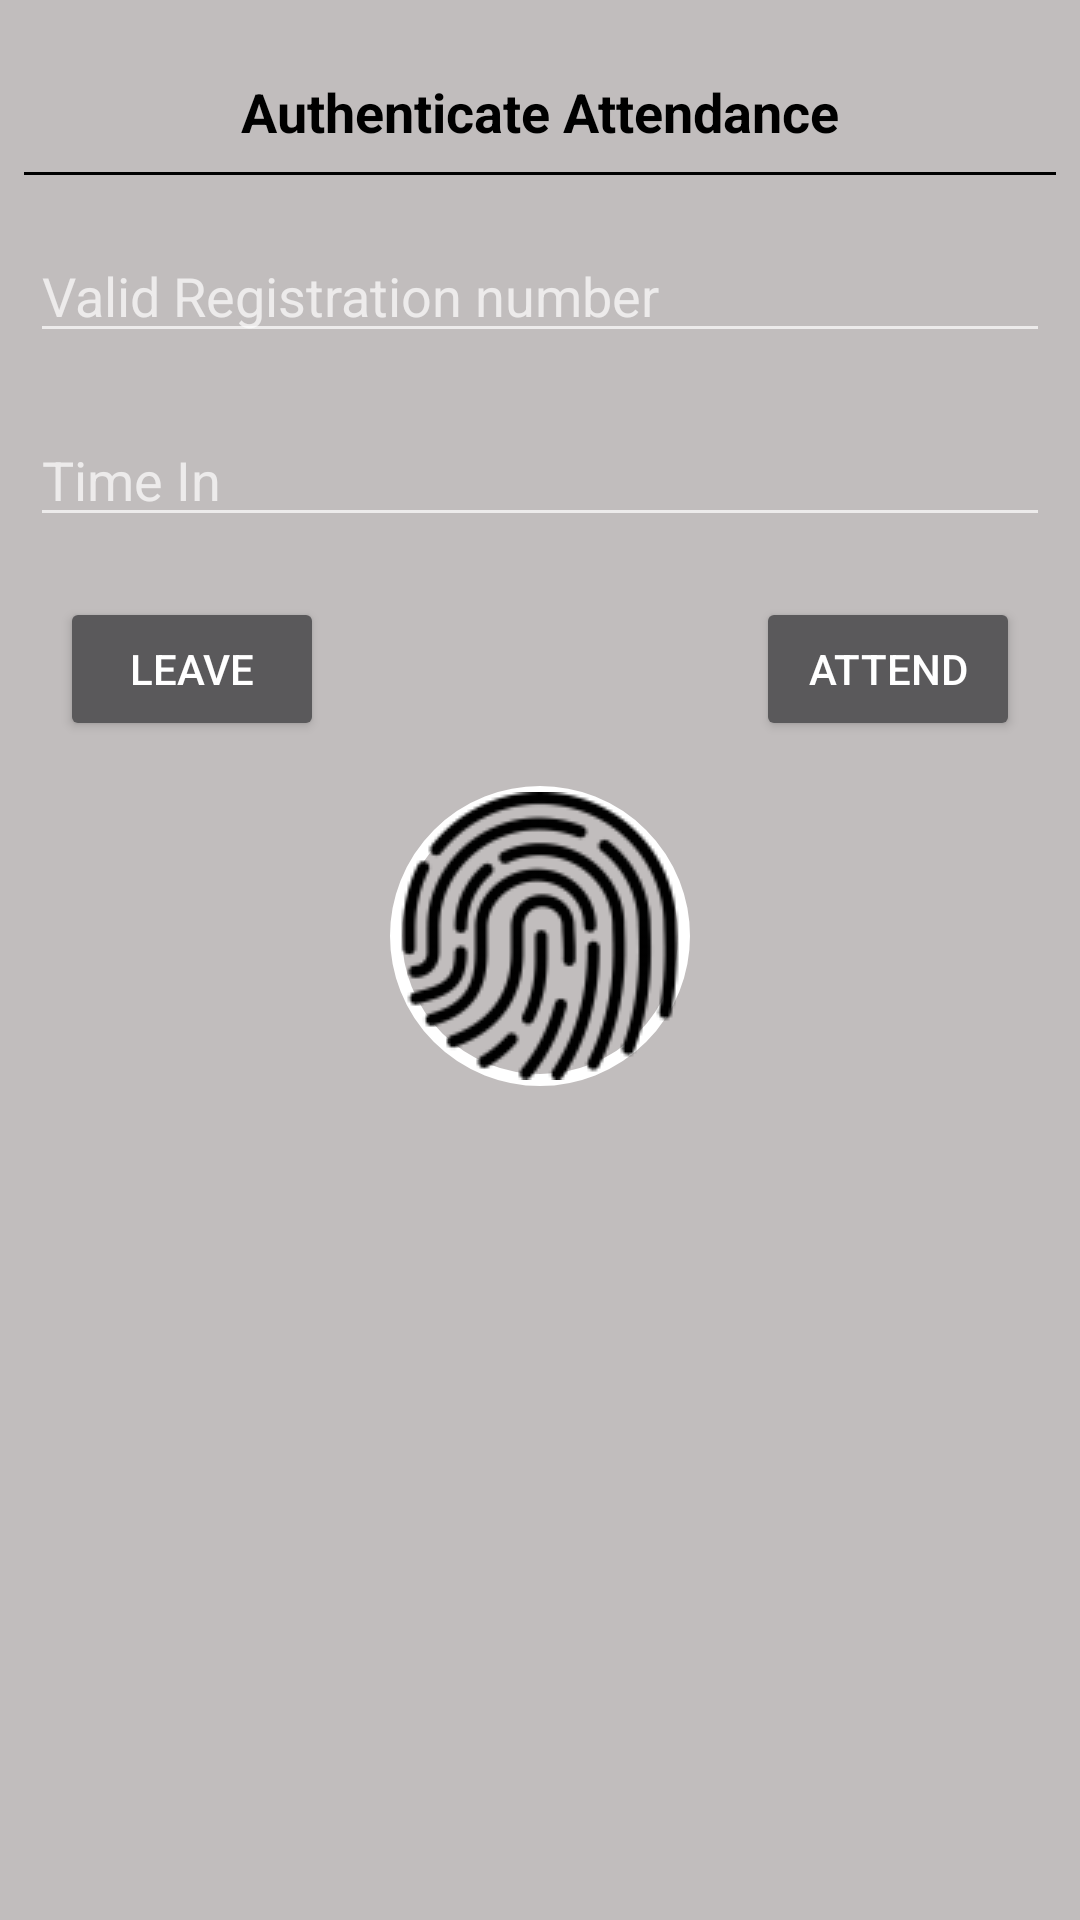

Named icons in this screenshot (1080 x 1920) and their centers, [x,y]:
fingerprint: [540,936]
